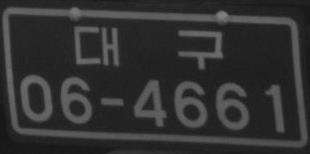0: (18, 73, 53, 122)
1: (259, 84, 292, 133)
4: (133, 78, 166, 126)
6: (172, 78, 208, 128), (216, 81, 250, 130), (58, 76, 92, 124)
대구_D: (74, 24, 223, 69)
